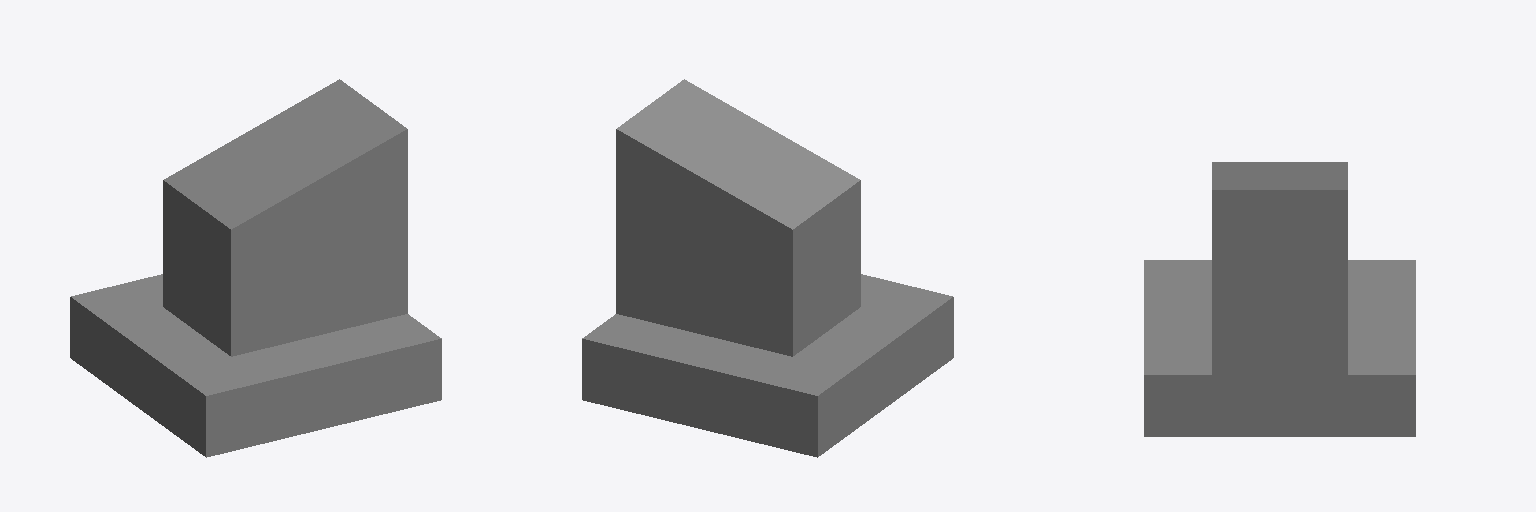
Rendered from pressurizer.obj.
3 views of the same model, side by side, from view 1: azimuth 30°, elevation 25°; view 2: azimuth 150°, elevation 25°; view 3: azimuth 270°, elevation 25° (orthographic).
Parts seen in each view (by area): view 1: Box001; view 2: Box001; view 3: Box001.
Boxes of the visible parts, box(x1,y1,x2,y2) form: Box001: box(70, 79, 441, 457); Box001: box(582, 79, 953, 457); Box001: box(1144, 162, 1415, 436).
Size of the model in its own units: 0.64 by 0.64 by 0.64.